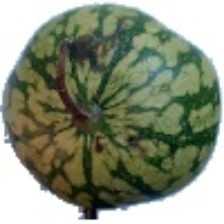watermelon: (53, 8, 199, 179)
